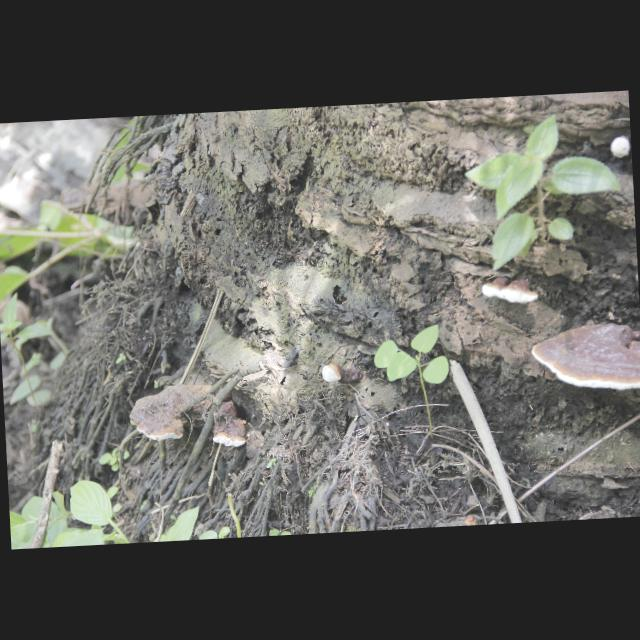ganoderma: (532, 321, 640, 396), (129, 384, 217, 444), (210, 402, 249, 451), (482, 276, 539, 308)
primordium: (611, 137, 633, 160), (323, 364, 346, 385)
